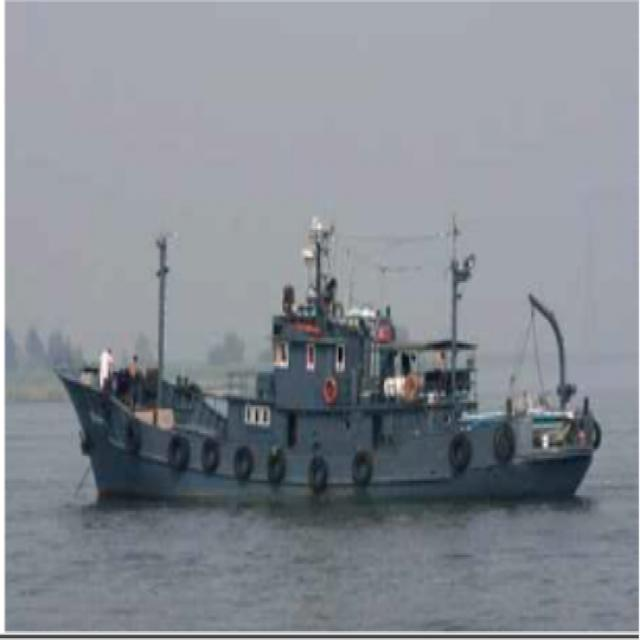Ship: (51, 196, 615, 521)
